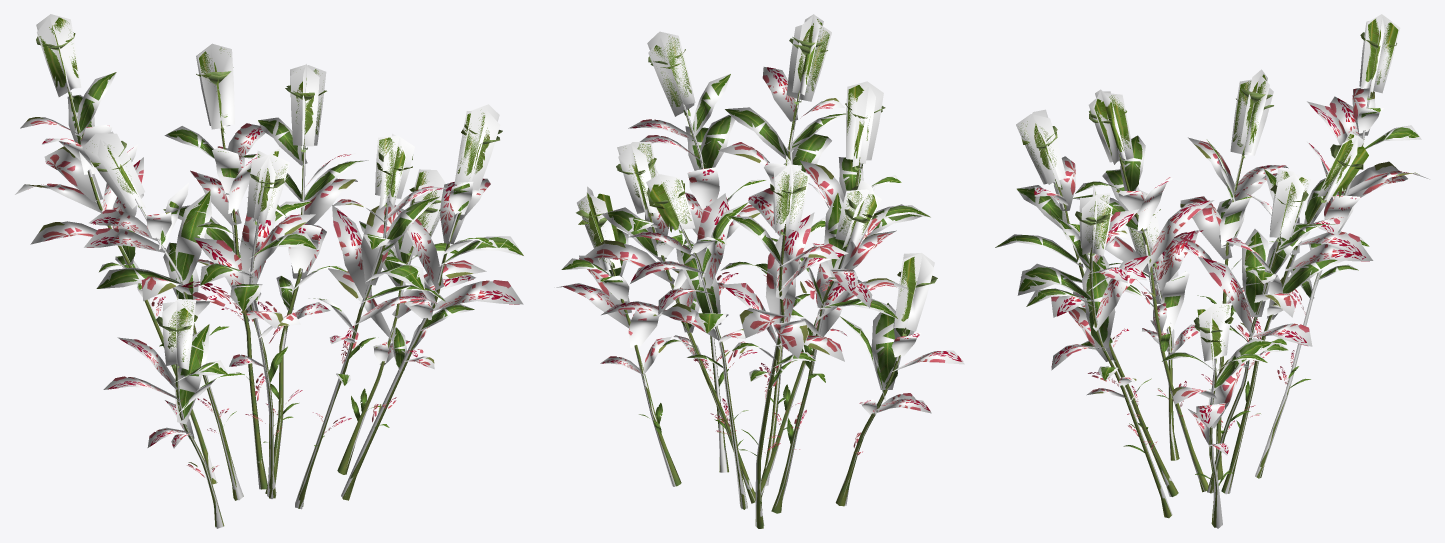
Rendered from gingerred.glb.
The picture shows the model from 3 angles, left to right: view 1: azimuth 30°, elevation 25°; view 2: azimuth 150°, elevation 25°; view 3: azimuth 270°, elevation 25°; orthographic projection. The views are drawn at different scales.
Visible parts, largest first — view 1: gingerred; view 2: gingerred; view 3: gingerred.
Part boxes in pixels (left/top/right/bottom): gingerred: left=15, top=14, right=523, bottom=528; gingerred: left=554, top=14, right=964, bottom=528; gingerred: left=995, top=14, right=1429, bottom=528.
Size of the model in its own units: 1.6 by 1.72 by 1.62.
3 materials, 2 textured.
